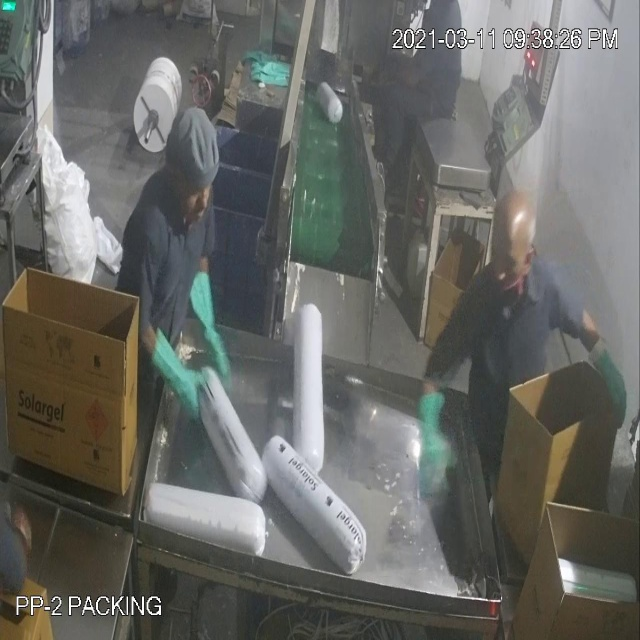Guantes: (142, 295, 211, 428), (185, 251, 242, 398), (414, 377, 459, 517), (590, 330, 632, 442)
